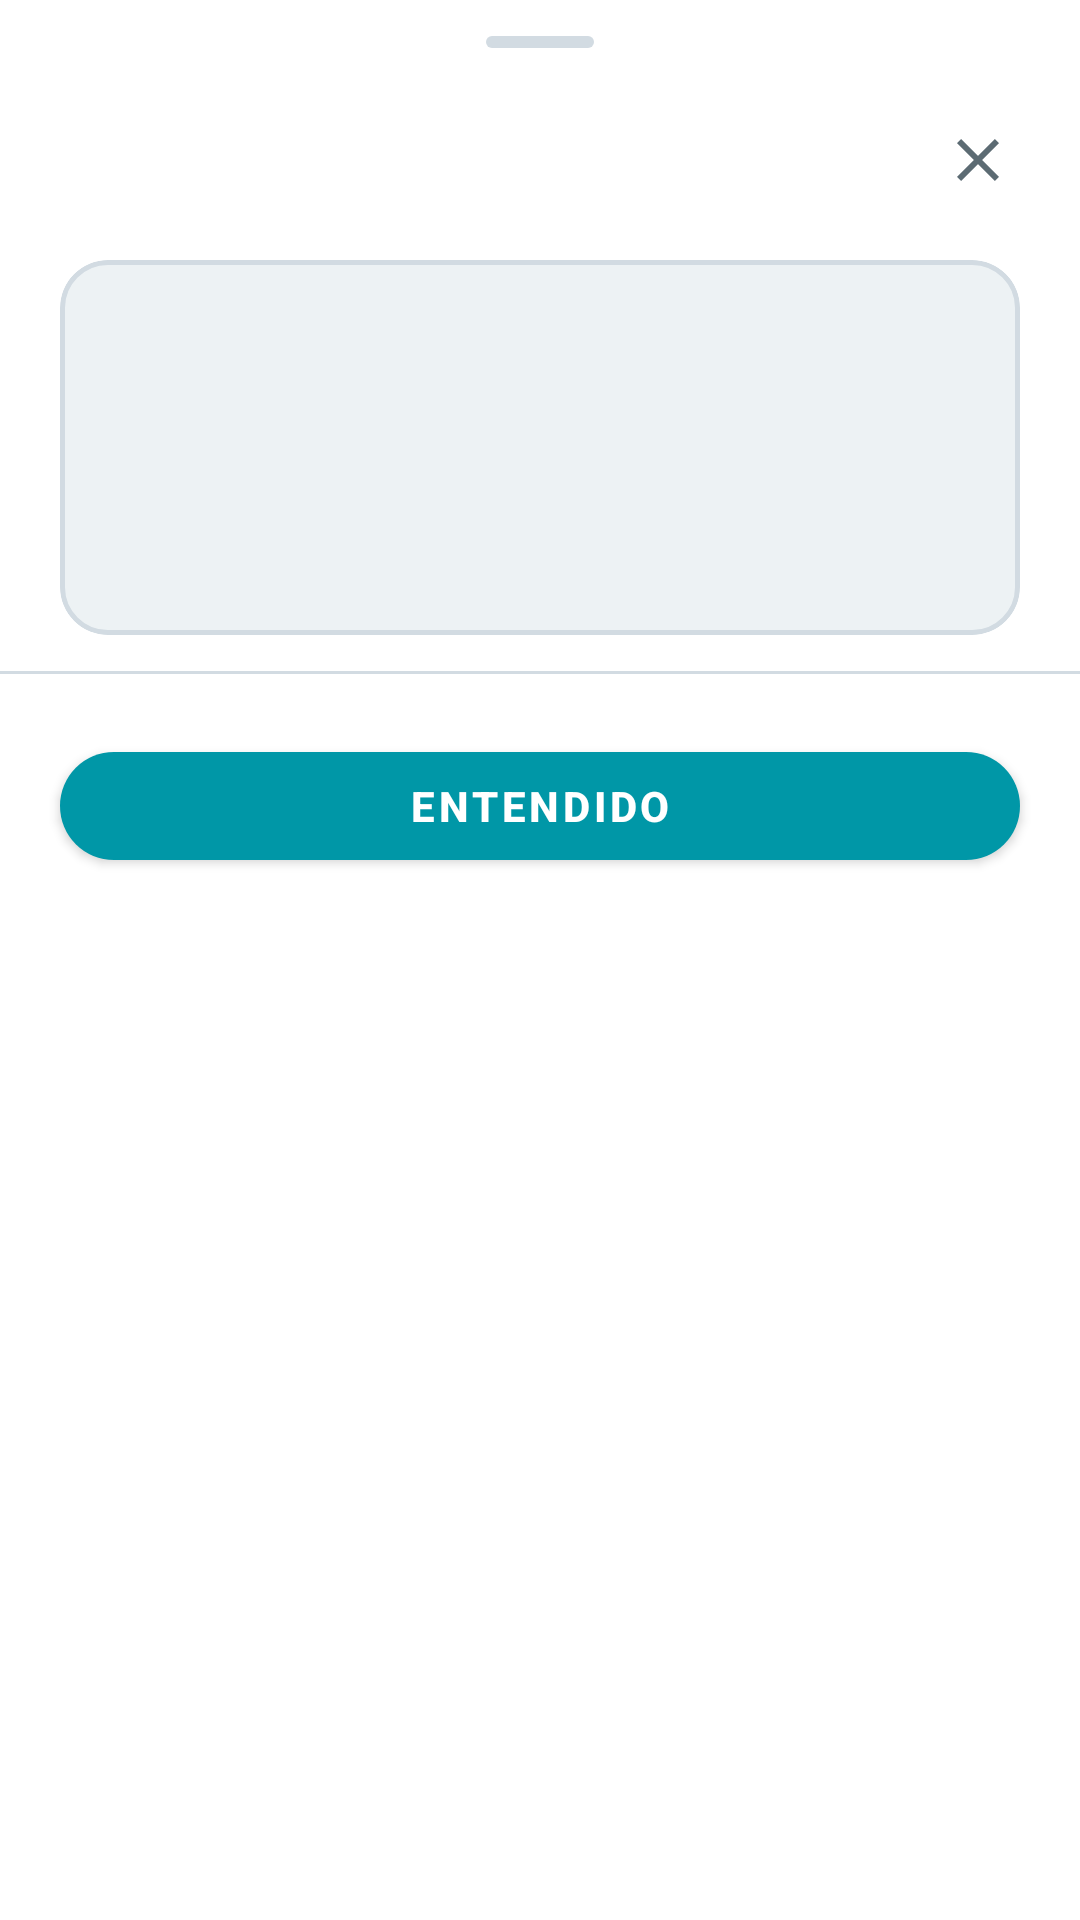

Point at icon controls on the screen. Image size 1080 x 1920, points as (x,y).
Cancelar: (978,160)
